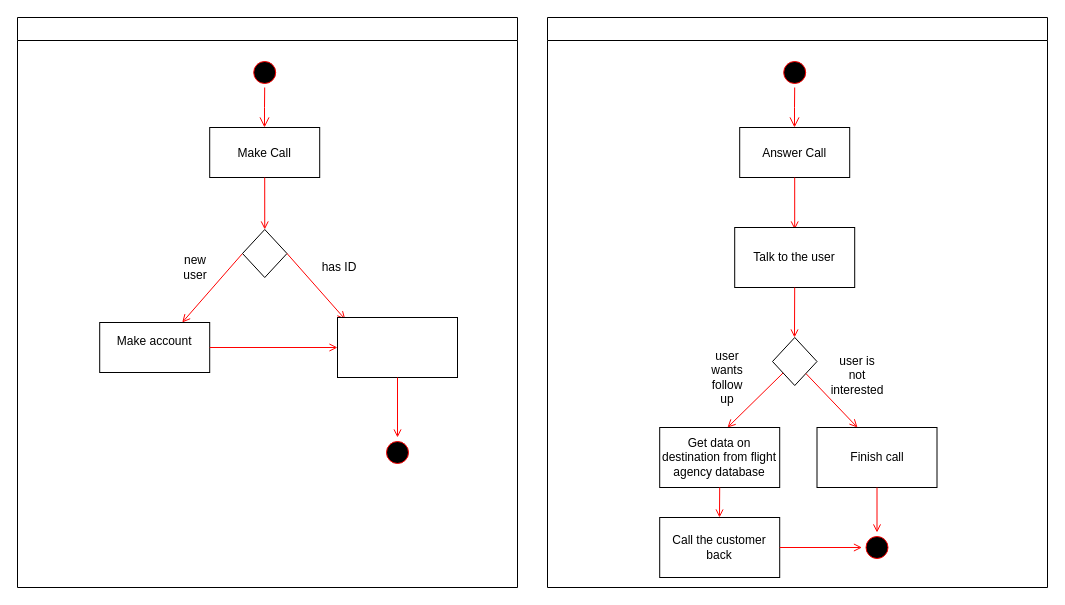
This 1065x605 diagram has some shape labels left out. The box of each missing label's shape, as (x1, y1, x2, y2) in pixels:
Provide information to the RM: (336, 316, 458, 378)
Thread 1: (16, 16, 518, 588)
Thread 2: (546, 16, 1048, 588)
